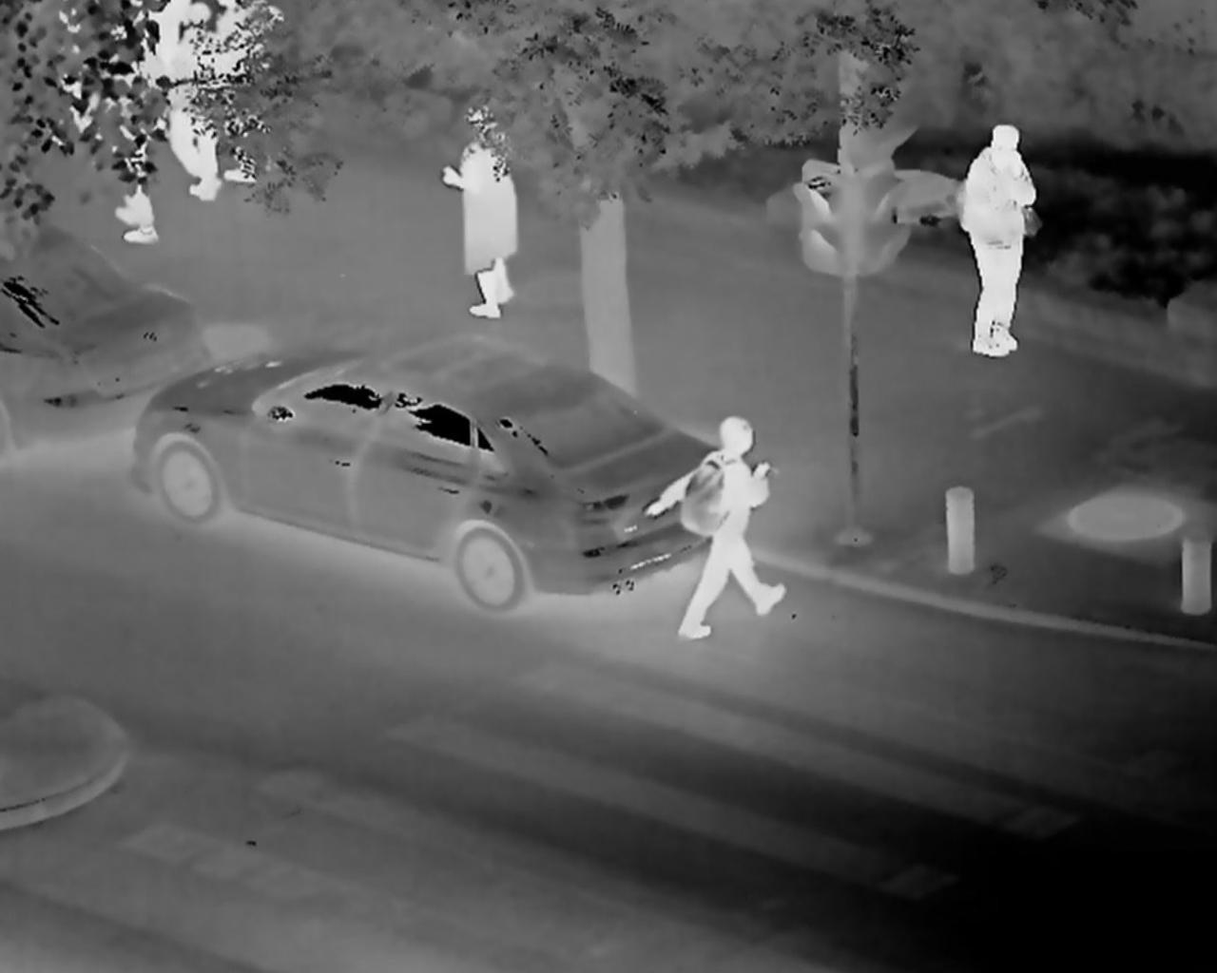person: (647, 401, 788, 645), (940, 120, 1053, 372), (435, 120, 527, 324), (83, 21, 160, 245), (160, 2, 223, 212), (208, 2, 275, 195)
